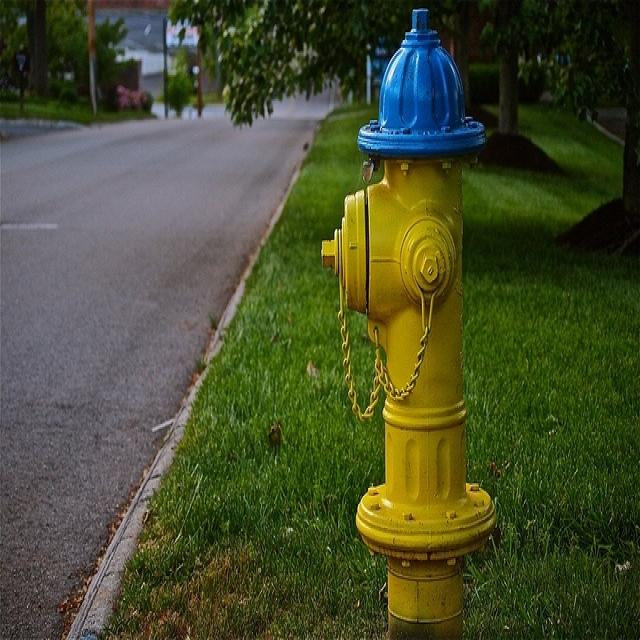fire_hydrant: (290, 41, 547, 615)
